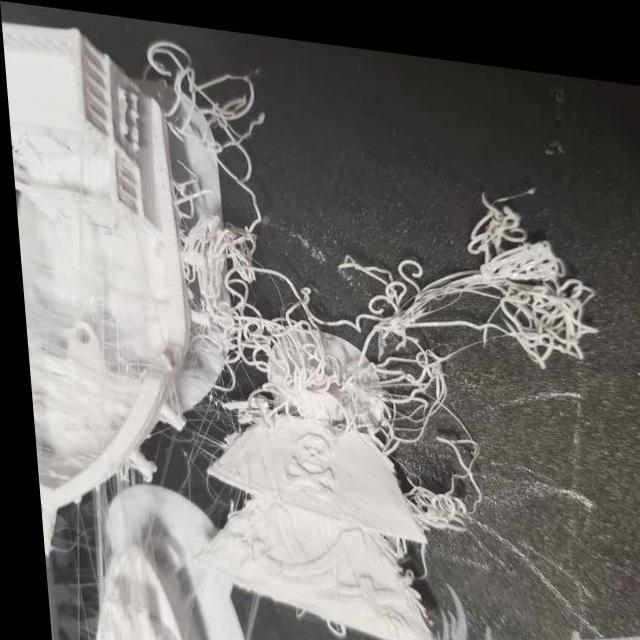spaghetti: (473, 207, 588, 352), (161, 38, 260, 159), (357, 249, 437, 369), (193, 224, 258, 349), (255, 316, 329, 393), (358, 344, 429, 423)
